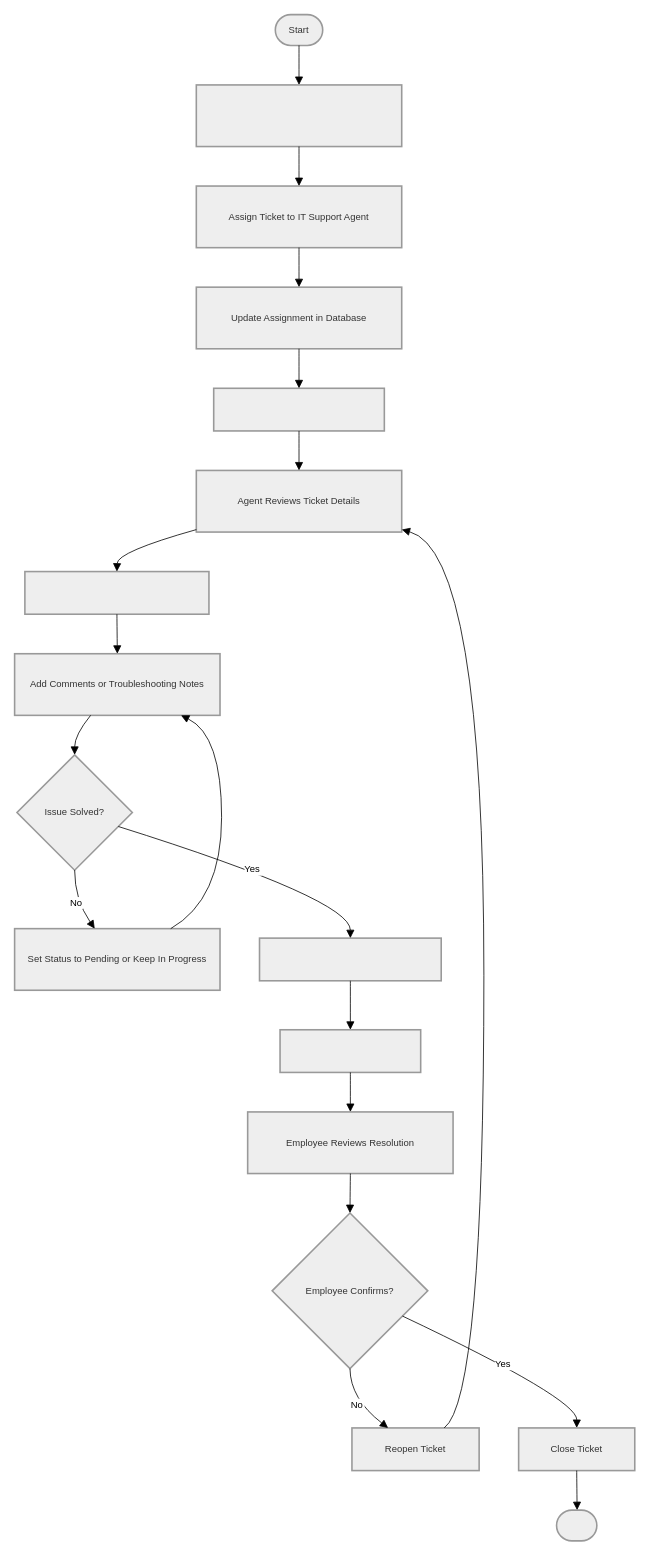
Some shapes in this 649 by 1555 pixel diagram are drawn without their labels. The shapes that lost their labels are listed below. From the top down, each one's box as (x1, y1, x2, y2) in pixels, then its label:
(195, 84, 402, 147): Admin or Manager Opens Ticket Details
(213, 387, 385, 431): Notify Assigned Agent
(24, 570, 209, 615): Set Status to In Progress
(258, 937, 442, 981): Mark Ticket as Resolved
(279, 1029, 421, 1073): Notify Employee
(555, 1509, 597, 1541): End
